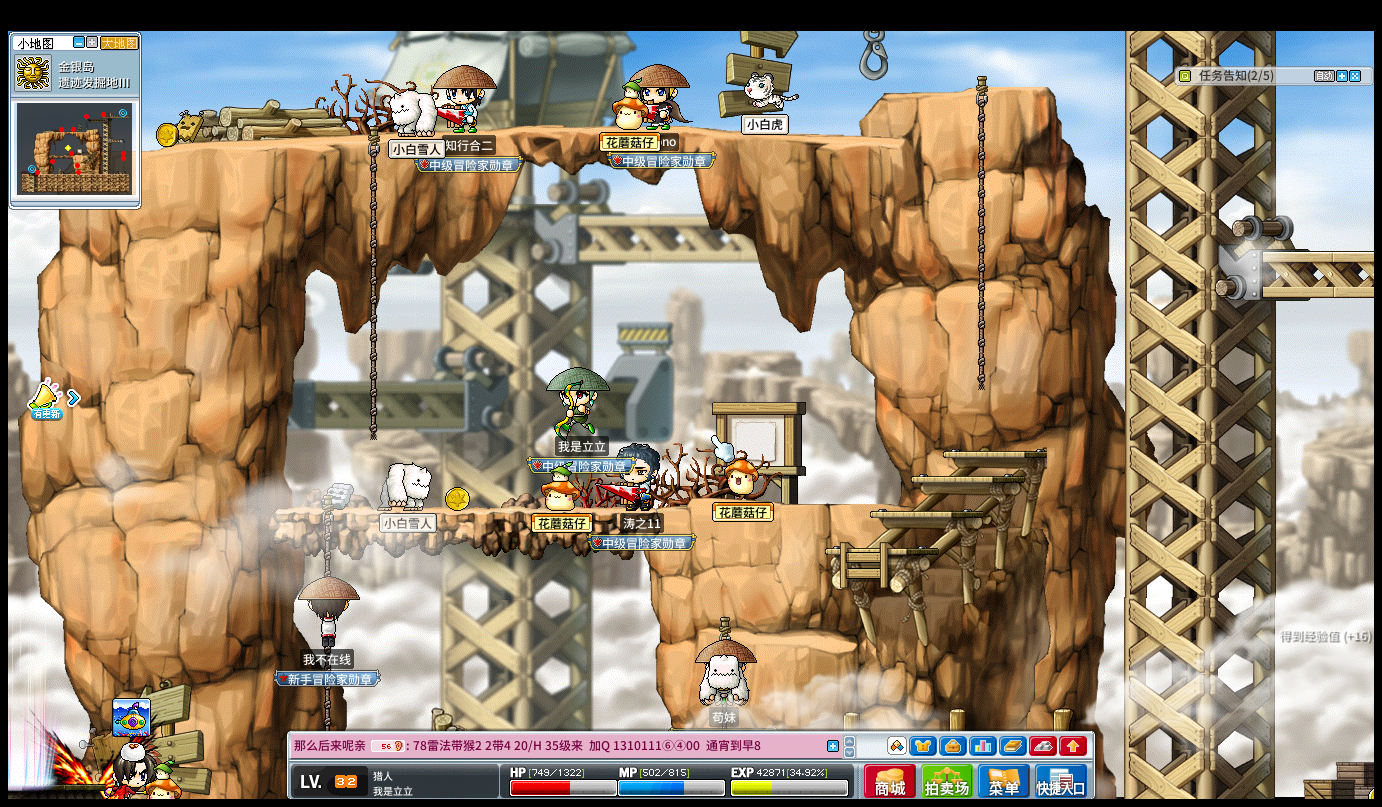floor: (133, 119, 893, 149), (278, 507, 635, 517), (881, 84, 1061, 99), (883, 81, 1054, 96), (1258, 244, 1380, 264), (750, 631, 855, 653), (769, 498, 904, 510), (823, 546, 935, 559), (771, 501, 900, 511), (775, 503, 905, 512), (942, 448, 1047, 459), (821, 546, 936, 555), (905, 474, 1019, 482), (868, 509, 981, 517)
rope: (973, 69, 987, 395), (366, 119, 378, 442), (319, 498, 332, 577)
